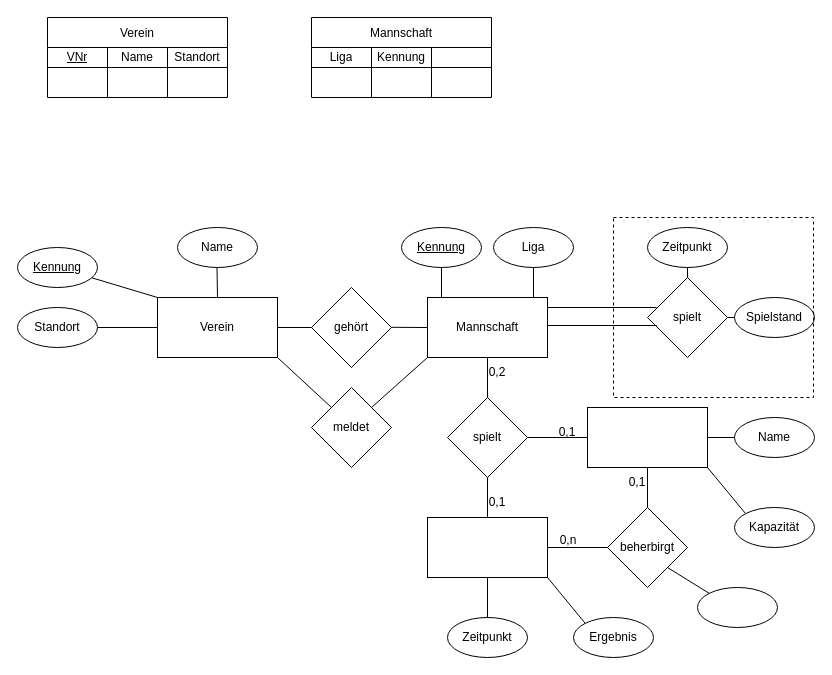
Some shapes in this 832 by 675 pixel diagram are drawn without their labels. The centre of each missing label's shape, as x and y in pixels:
"Spiel" belongs at (x=487, y=547).
"Stadion" belongs at (x=647, y=437).
"Zeit" belongs at (x=737, y=607).
